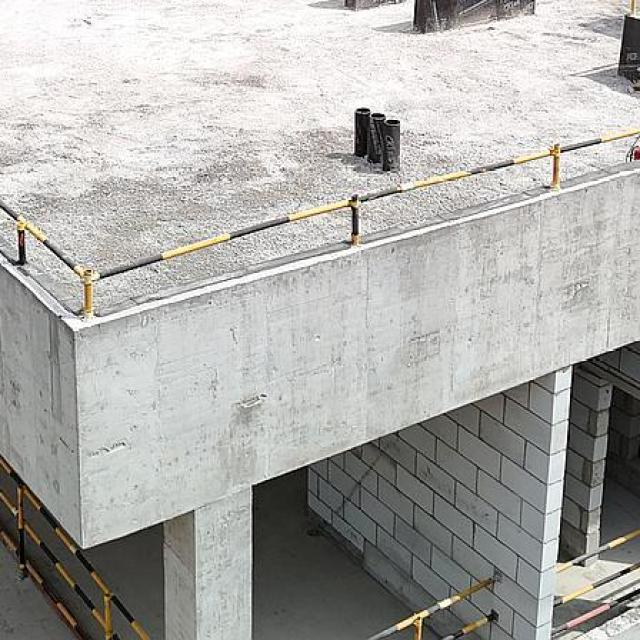edge_guardrail: (0, 124, 640, 325), (0, 457, 154, 640), (550, 528, 640, 636), (366, 575, 497, 640)
